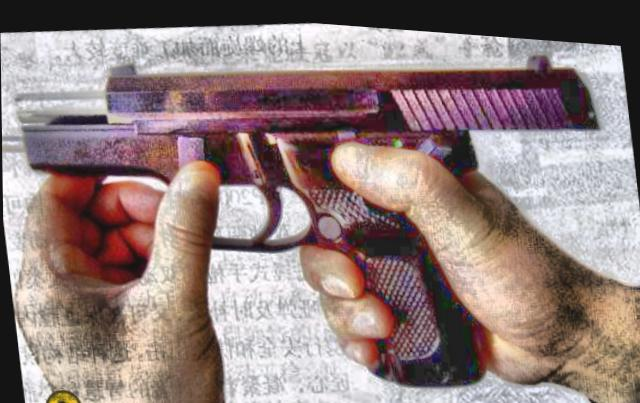pistol: (0, 6, 620, 403)
